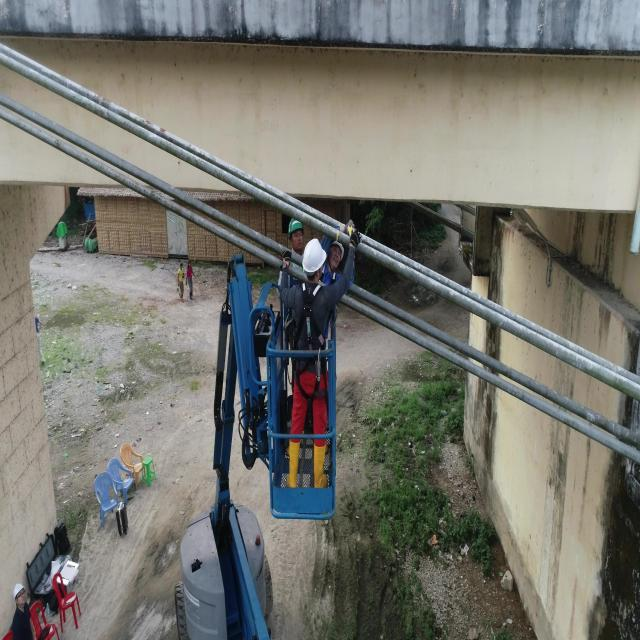corrosion: (102, 98, 110, 109), (94, 94, 101, 103), (160, 128, 165, 136), (146, 120, 151, 126)
crack: (461, 343, 464, 351), (416, 273, 418, 281)
